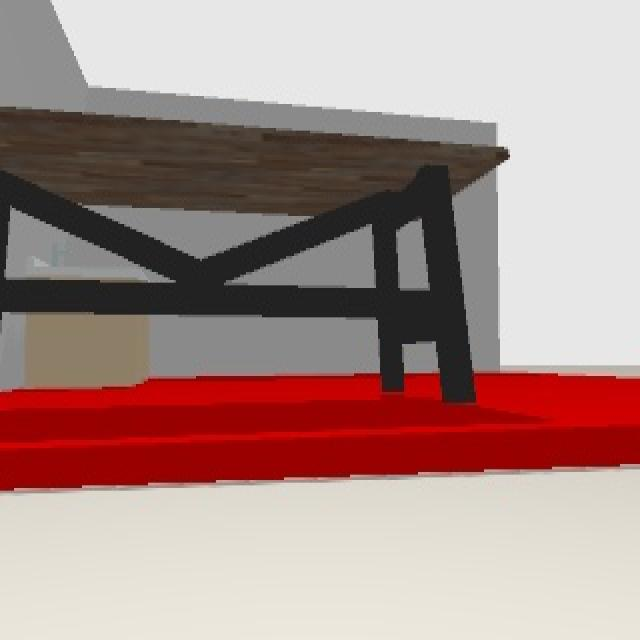dining: (1, 103, 513, 404)
